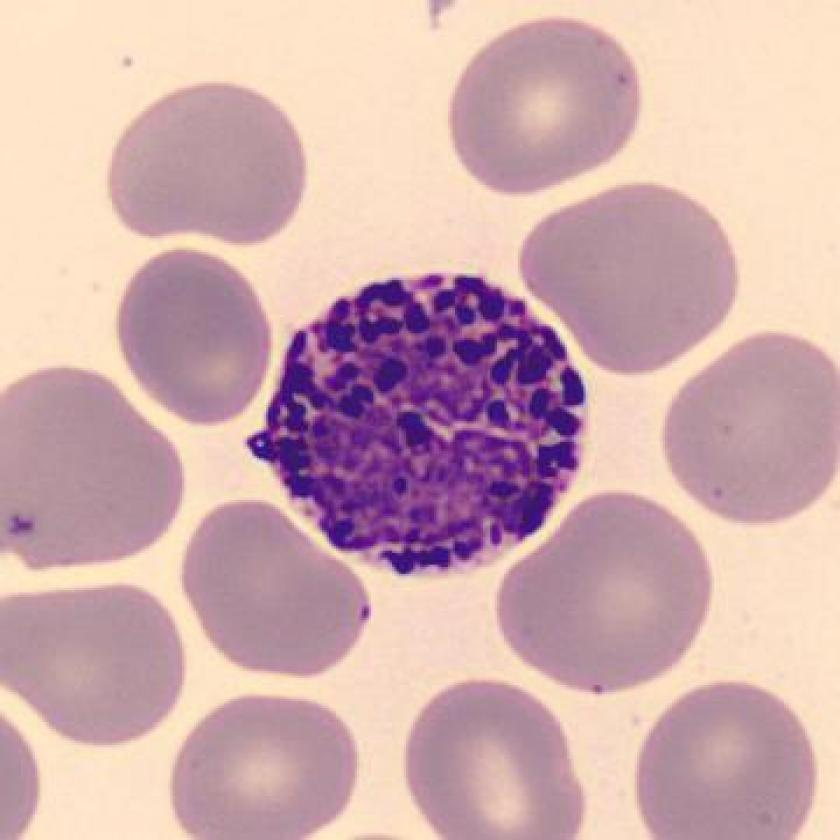basophil: (260, 267, 598, 582)
